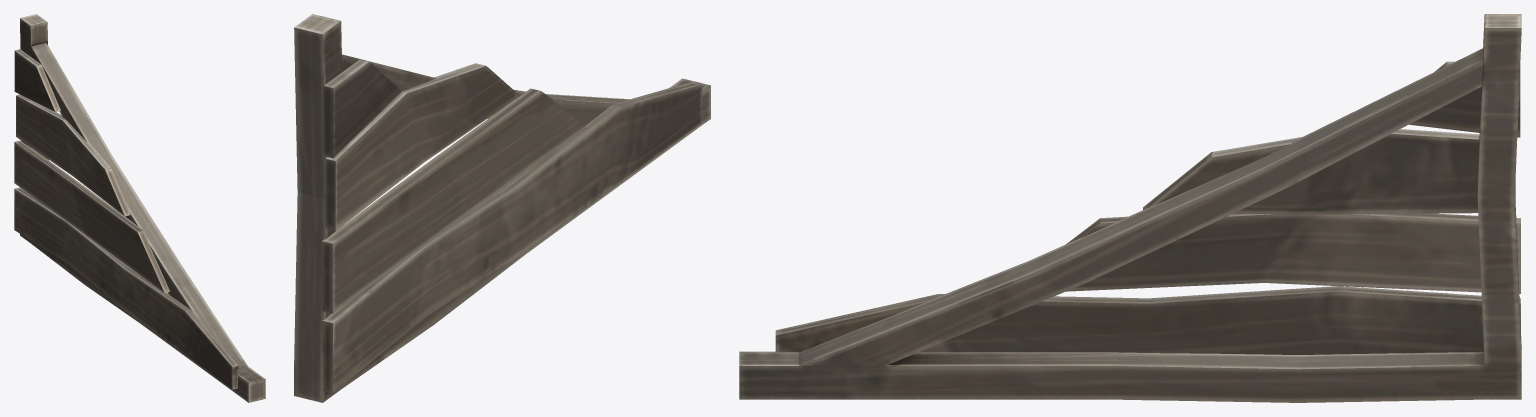
File: Wood_SideRoof_2x.glb
3 views of the same model, side by side, from view 1: azimuth 30°, elevation 25°; view 2: azimuth 150°, elevation 25°; view 3: azimuth 270°, elevation 25° (orthographic). The views are drawn at different scales.
Visible parts, largest first — view 1: Wood_SideRoof_2x; view 2: Wood_SideRoof_2x; view 3: Wood_SideRoof_2x.
Boxes of the visible parts, left/top/right/bottom form: Wood_SideRoof_2x: left=14, top=14, right=265, bottom=402; Wood_SideRoof_2x: left=294, top=14, right=710, bottom=402; Wood_SideRoof_2x: left=739, top=14, right=1521, bottom=402.
Size of what is drawn, in the model's own units: 0.1415 by 1.11 by 2.1.
1 material, 1 textured.
